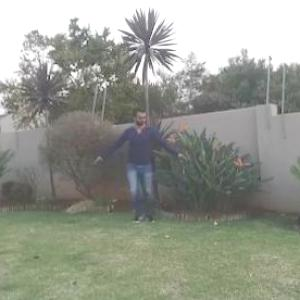land: (89, 99, 194, 231)
